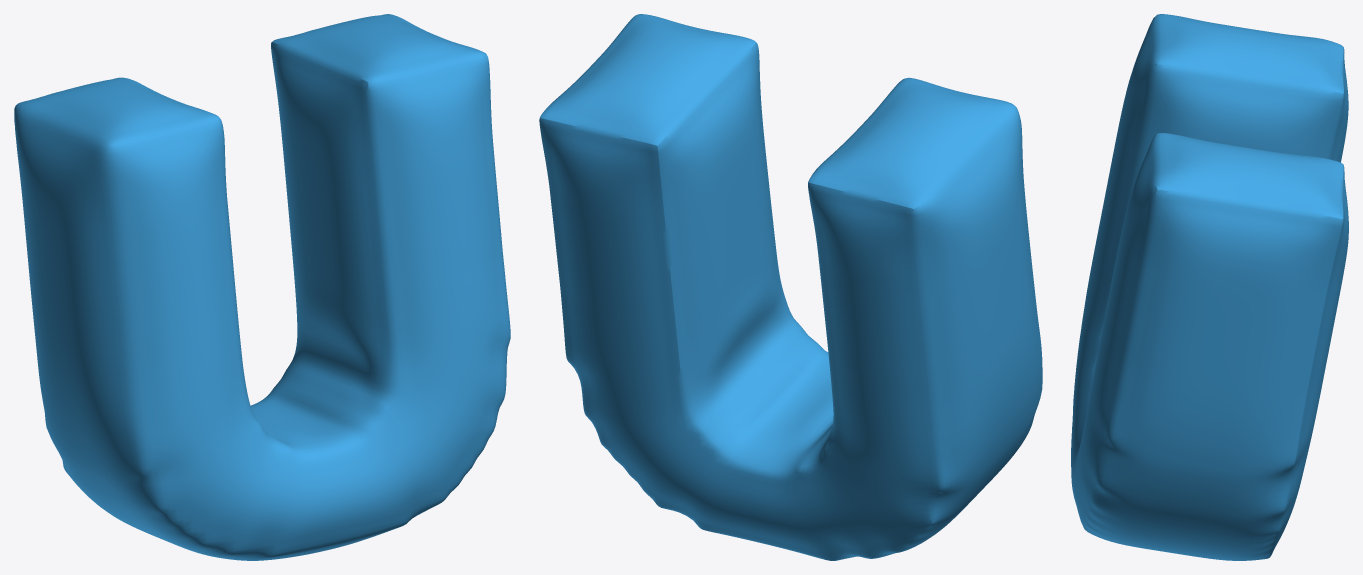
File: LetraU.gltf
3 views of the same model, side by side, from view 1: azimuth 30°, elevation 25°; view 2: azimuth 150°, elevation 25°; view 3: azimuth 270°, elevation 25° (orthographic). The views are drawn at different scales.
Visible parts, largest first — view 1: U; view 2: U; view 3: U.
Boxes of the visible parts, left/top/right/bottom form: U: left=14, top=14, right=510, bottom=560; U: left=539, top=14, right=1042, bottom=560; U: left=1071, top=14, right=1348, bottom=560.
Bounding box in the file's own units: 0.868 × 0.9171 × 0.5289.
